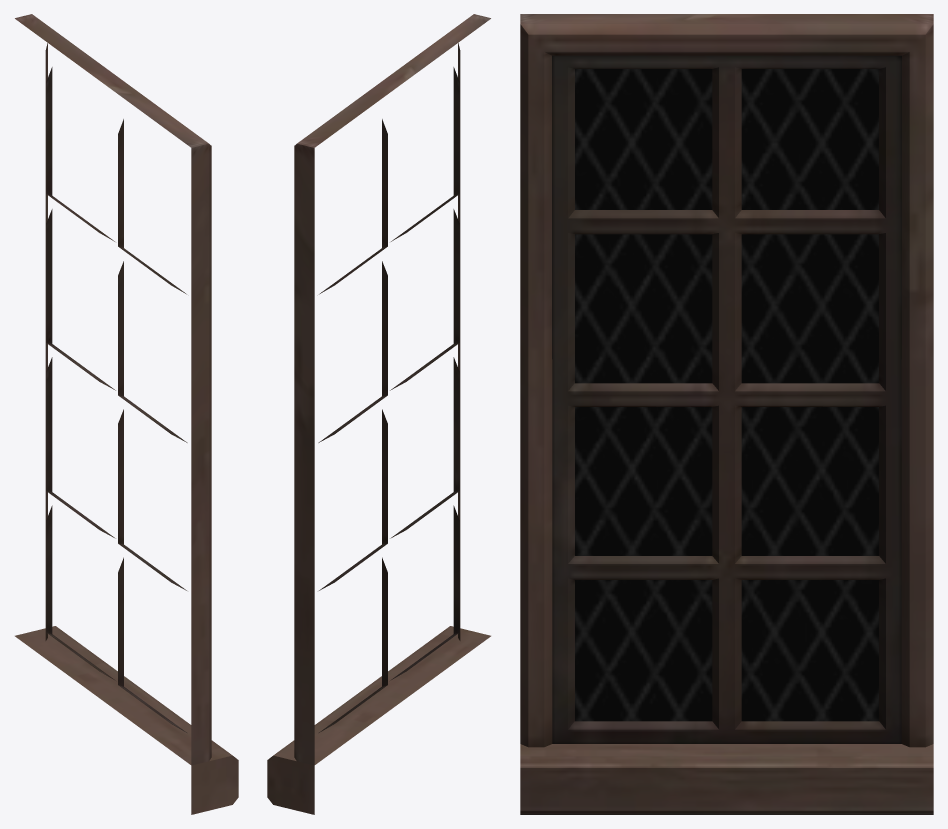
3 views of the same model, side by side, from view 1: azimuth 30°, elevation 25°; view 2: azimuth 150°, elevation 25°; view 3: azimuth 270°, elevation 25° (orthographic). The views are drawn at different scales.
Visible parts, largest first — view 1: body0_model0_lod0_mesh1; view 2: body0_model0_lod0_mesh1; view 3: body0_model0_lod0_mesh1, body0_model0_lod0_mesh0.
Part boxes in pixels (x1,y1,x2,y2): body0_model0_lod0_mesh1: [15, 14, 238, 814]; body0_model0_lod0_mesh1: [267, 14, 490, 814]; body0_model0_lod0_mesh1: [520, 14, 933, 814]; body0_model0_lod0_mesh0: [575, 69, 878, 721].
Size of the model in its own units: 8 by 108 by 52.
Materials: 2 (2 with a texture image).
